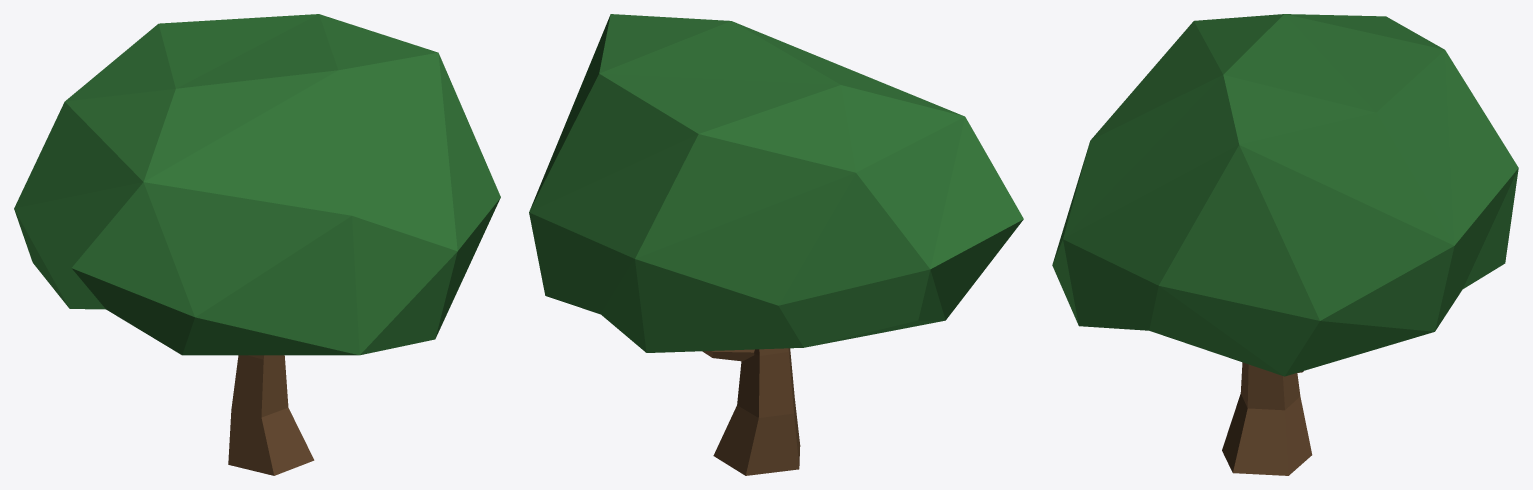
Rendered from bush-small.glb.
The picture shows the model from 3 angles, left to right: view 1: azimuth 30°, elevation 25°; view 2: azimuth 150°, elevation 25°; view 3: azimuth 270°, elevation 25°; orthographic projection. The views are drawn at different scales.
Parts seen in each view (by area): view 1: bush-small; view 2: bush-small; view 3: bush-small.
Boxes of the visible parts, box(x1,y1,x2,y2) form: bush-small: box(14, 14, 500, 475); bush-small: box(529, 14, 1023, 475); bush-small: box(1052, 14, 1518, 475).
Size of the model in its own units: 0.6632 by 0.604 by 0.6237.
